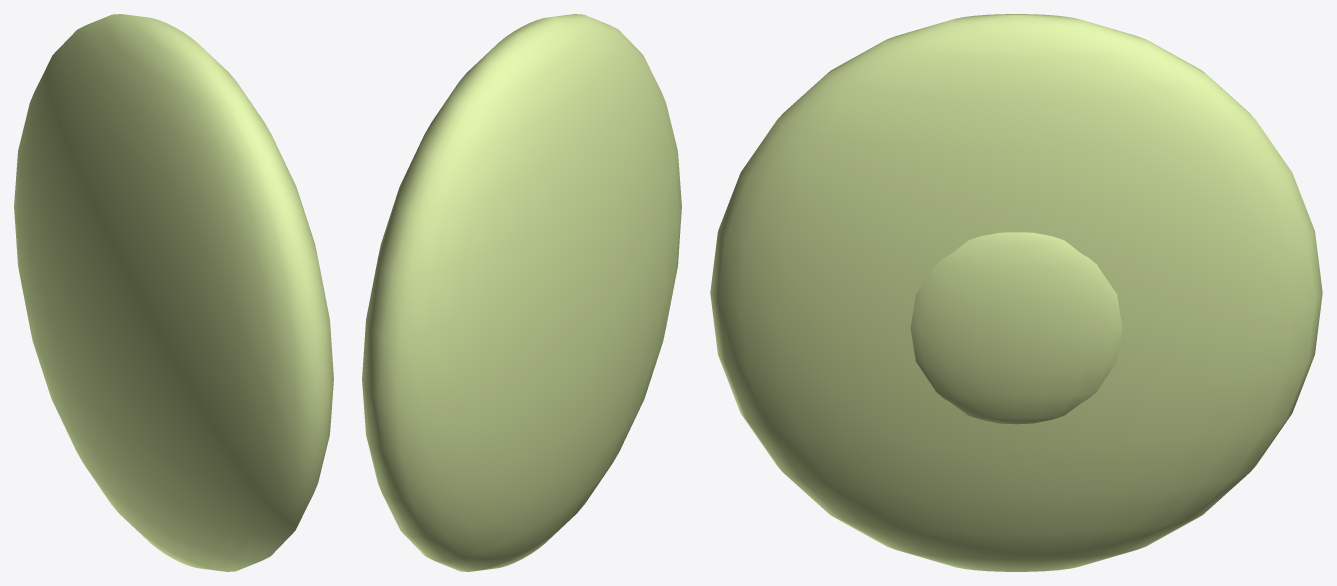
The model's file is headlight_led_hd.glb.
3 views of the same model, side by side, from view 1: azimuth 30°, elevation 25°; view 2: azimuth 150°, elevation 25°; view 3: azimuth 270°, elevation 25° (orthographic). The views are drawn at different scales.
Parts seen in each view (by area): view 1: S51_HD_headlight_led; view 2: S51_HD_headlight_led; view 3: S51_HD_headlight_led.
Part boxes in pixels (box(x1,y1,x2,y2)): S51_HD_headlight_led: box(14, 14, 333, 571); S51_HD_headlight_led: box(362, 14, 681, 571); S51_HD_headlight_led: box(710, 14, 1322, 571).
Bounding box in the file's own units: 0.13 × 0.41 × 0.41.
